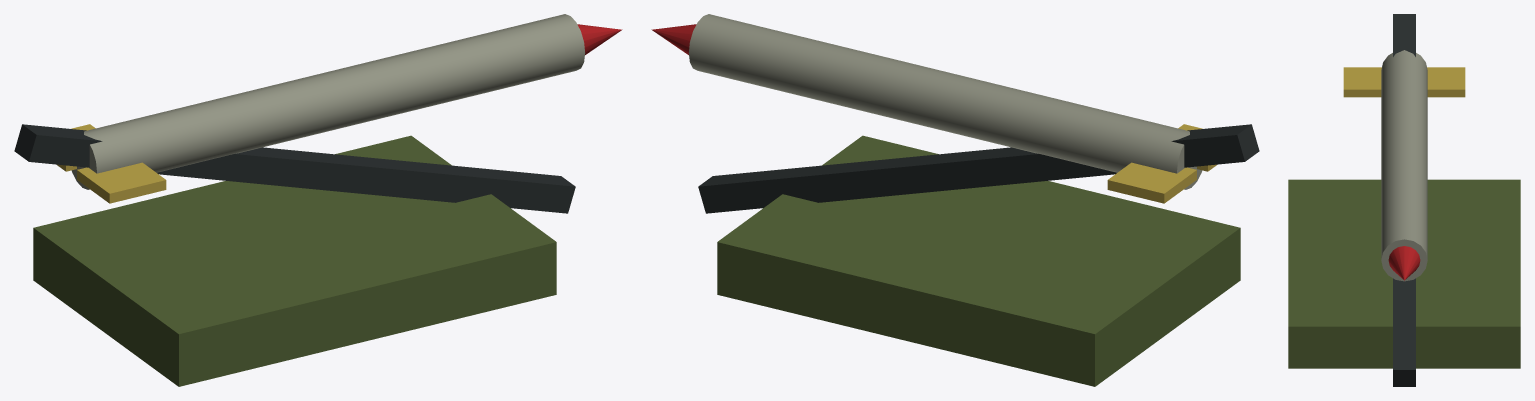
File: sa2-sam-launcher.glb
The picture shows the model from 3 angles, left to right: view 1: azimuth 30°, elevation 25°; view 2: azimuth 150°, elevation 25°; view 3: azimuth 270°, elevation 25°; orthographic projection. The views are drawn at different scales.
Parts seen in each view (by area): view 1: launcherBase, missileBody, railBeam, finA, missileNose; view 2: launcherBase, missileBody, railBeam, finB, missileNose; view 3: launcherBase, missileBody, railBeam, finA, finB, missileNose.
Part boxes in pixels (bbox=[...]): launcherBase: bbox=[33, 135, 556, 386]; missileBody: bbox=[71, 14, 585, 189]; railBeam: bbox=[14, 124, 575, 213]; finA: bbox=[77, 162, 166, 203]; missileNose: bbox=[577, 24, 622, 54]; launcherBase: bbox=[717, 135, 1240, 386]; missileBody: bbox=[688, 14, 1202, 189]; railBeam: bbox=[698, 124, 1259, 213]; finB: bbox=[1107, 162, 1196, 203]; missileNose: bbox=[651, 24, 696, 54]; launcherBase: bbox=[1288, 179, 1520, 368]; missileBody: bbox=[1381, 50, 1427, 281]; railBeam: bbox=[1393, 14, 1415, 386]; finA: bbox=[1343, 67, 1381, 97]; finB: bbox=[1427, 67, 1465, 97]; missileNose: bbox=[1388, 246, 1420, 280].
Size of the model in its own units: 1.91 by 0.6762 by 0.8.
